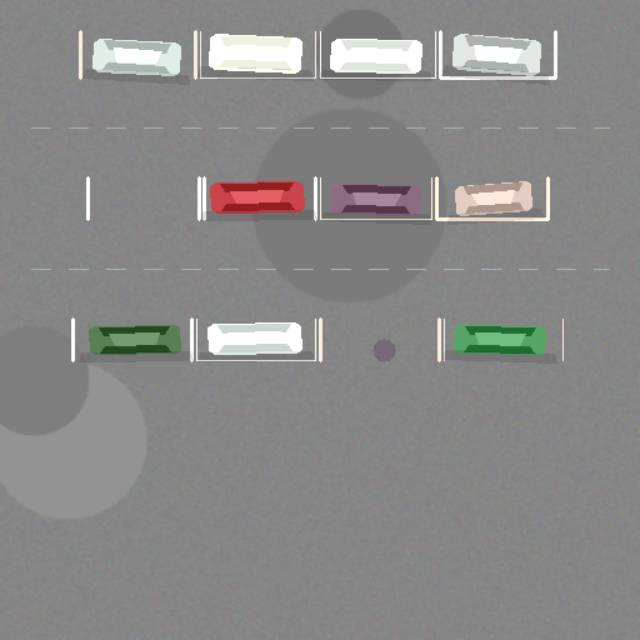space-empty: (320, 319, 439, 360), (88, 177, 199, 219)
space-occupied: (80, 31, 195, 78), (200, 31, 315, 78), (320, 31, 435, 78), (440, 31, 555, 78), (196, 319, 315, 360), (444, 319, 563, 360), (73, 319, 191, 360), (436, 177, 548, 219), (204, 177, 315, 219), (320, 177, 431, 219)
